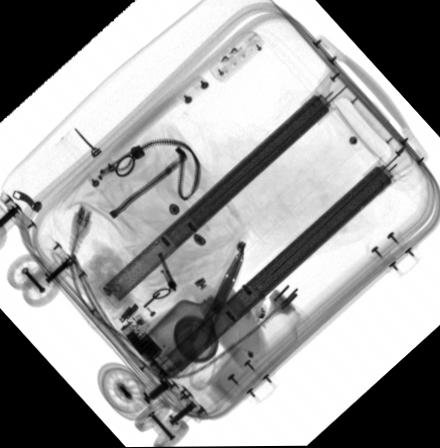Scissors: (156, 245, 244, 392)
